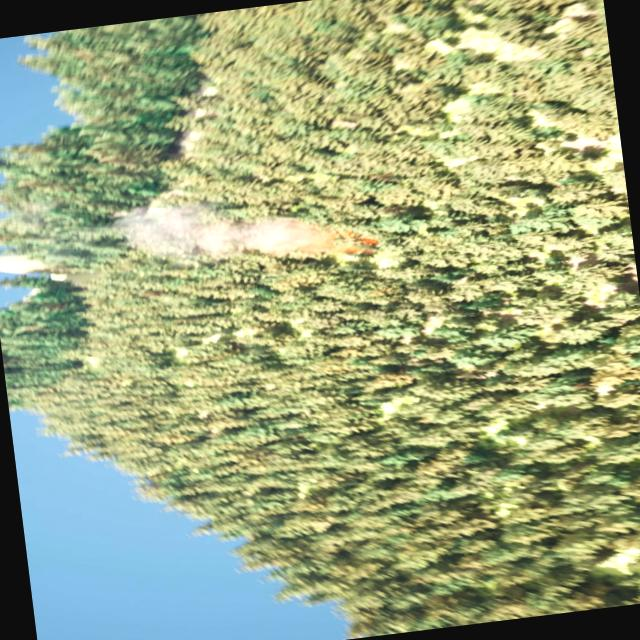smoke: (104, 175, 358, 284)
